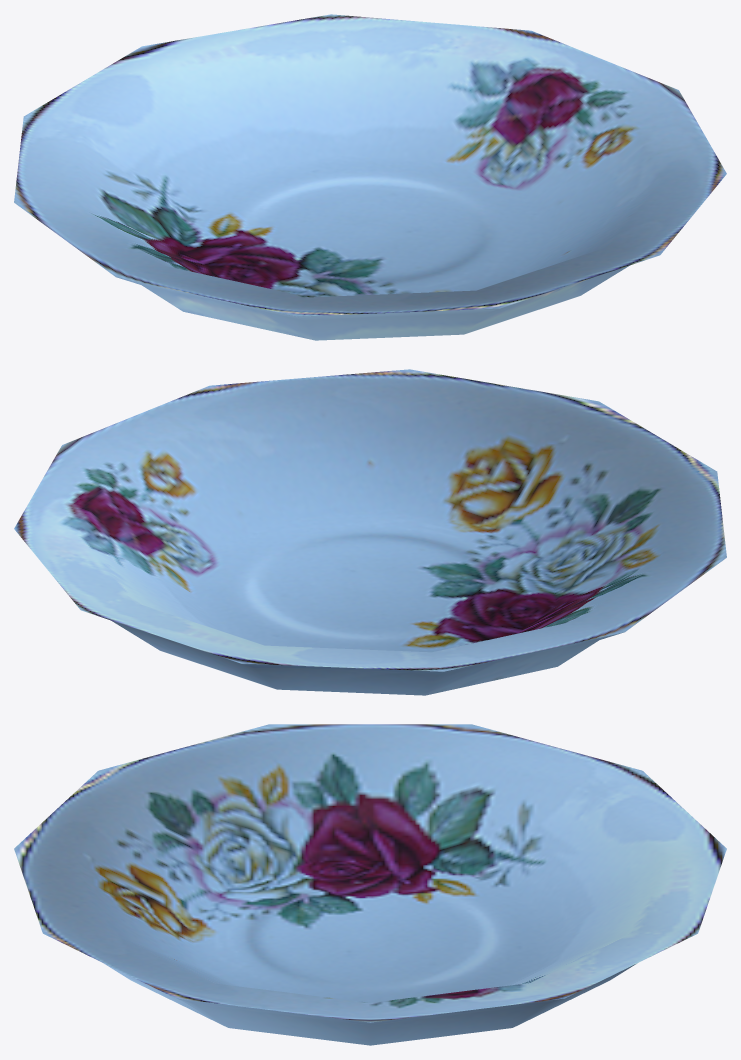
Rendered from dish-8.FBX.
3 renders of one model, top to bottom at view 1: azimuth 30°, elevation 25°; view 2: azimuth 150°, elevation 25°; view 3: azimuth 270°, elevation 25°, orthographic.
Parts seen in each view (by area): view 1: Line01; view 2: Line01; view 3: Line01.
Part boxes in pixels (bbox=[...]): Line01: bbox=[14, 14, 726, 340]; Line01: bbox=[14, 369, 726, 695]; Line01: bbox=[14, 724, 726, 1045].
Size of the model in its own units: 8.43 by 1.27 by 8.52.
